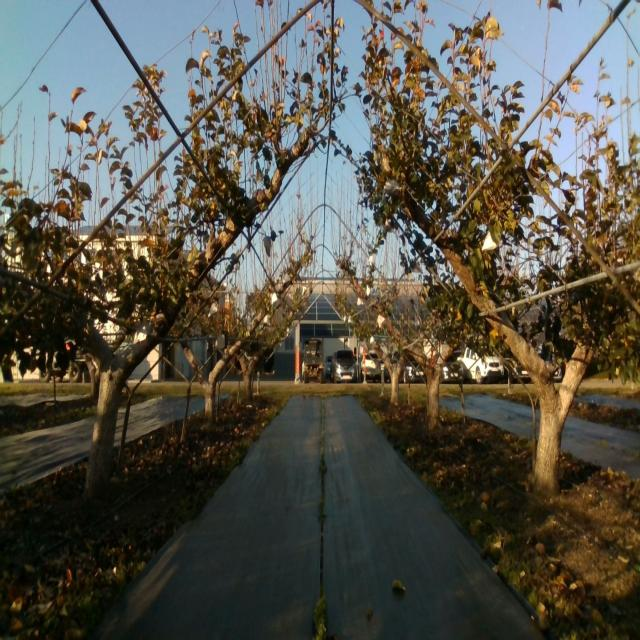pearbags: (133, 321, 150, 347)
